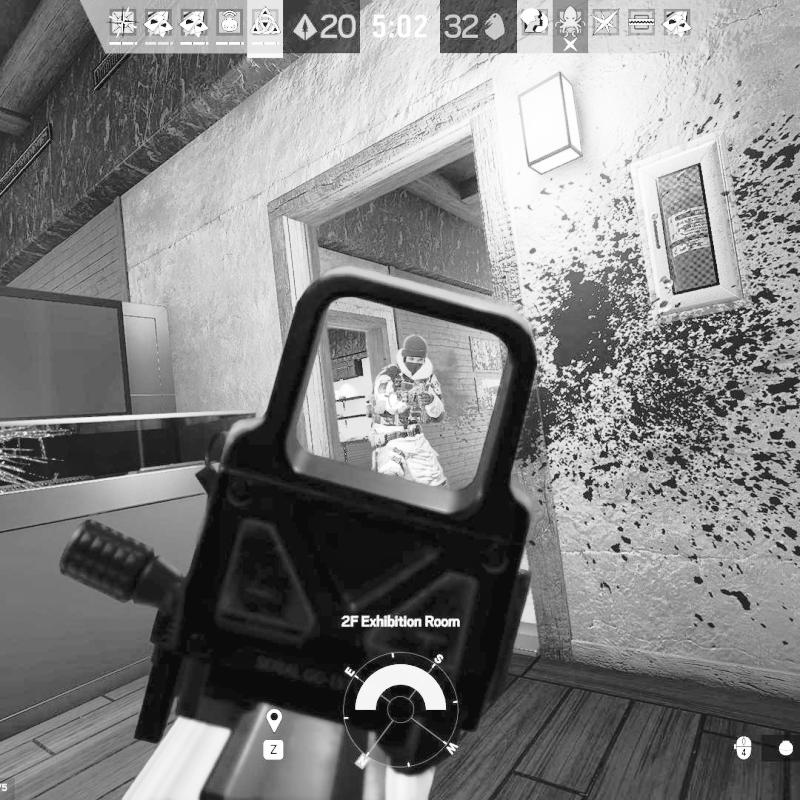Character: (366, 334, 449, 490)
Head: (396, 334, 431, 377)
